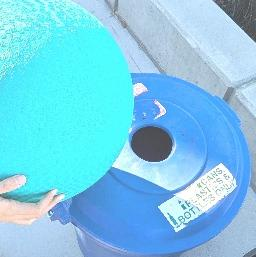algae: (0, 0, 125, 204)
